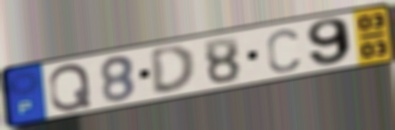8: (203, 36, 244, 85), (98, 54, 137, 104)
9: (306, 16, 356, 69)
C: (264, 28, 302, 75)
D: (147, 43, 199, 96)
Q: (46, 62, 94, 113)
